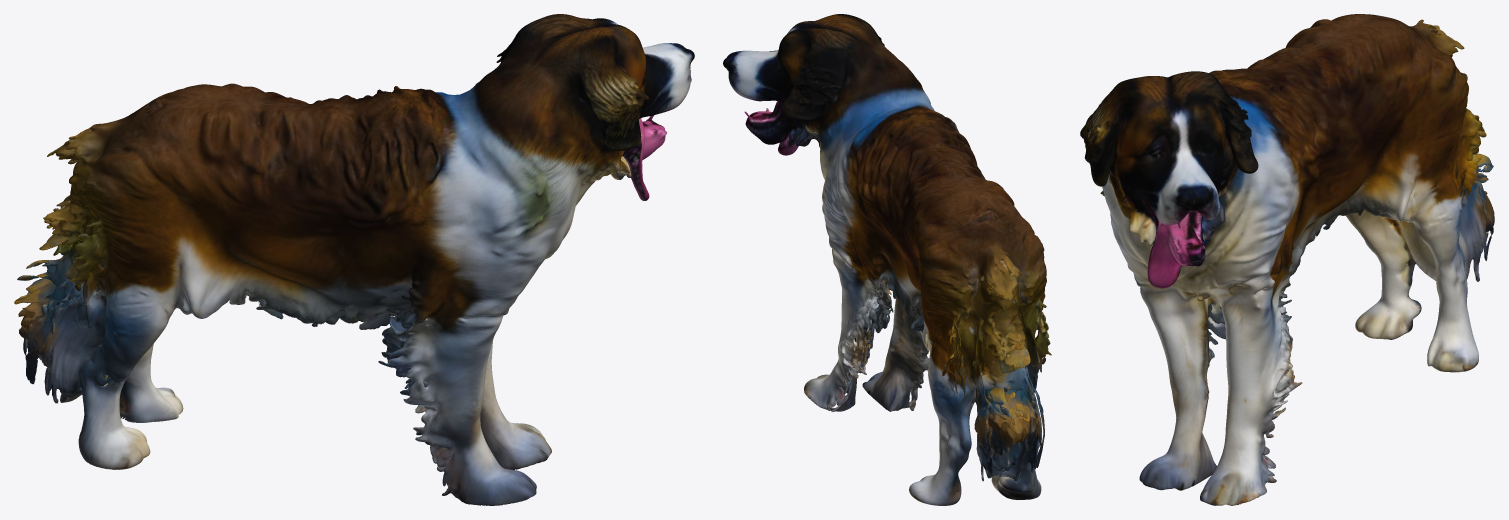
File: PERRO1.fbx
3 views of the same model, side by side, from view 1: azimuth 30°, elevation 25°; view 2: azimuth 150°, elevation 25°; view 3: azimuth 270°, elevation 25° (orthographic). The views are drawn at different scales.
Visible parts, largest first — view 1: tripo_node_e86cd6a8; view 2: tripo_node_e86cd6a8; view 3: tripo_node_e86cd6a8.
Boxes of the visible parts, x1,y1,x2,y2 form: tripo_node_e86cd6a8: (14,14,694,505); tripo_node_e86cd6a8: (723,14,1051,505); tripo_node_e86cd6a8: (1080,14,1494,505).
Size of the model in its own units: 100 by 81.25 by 69.45.
Materials: 1 (1 with a texture image).
